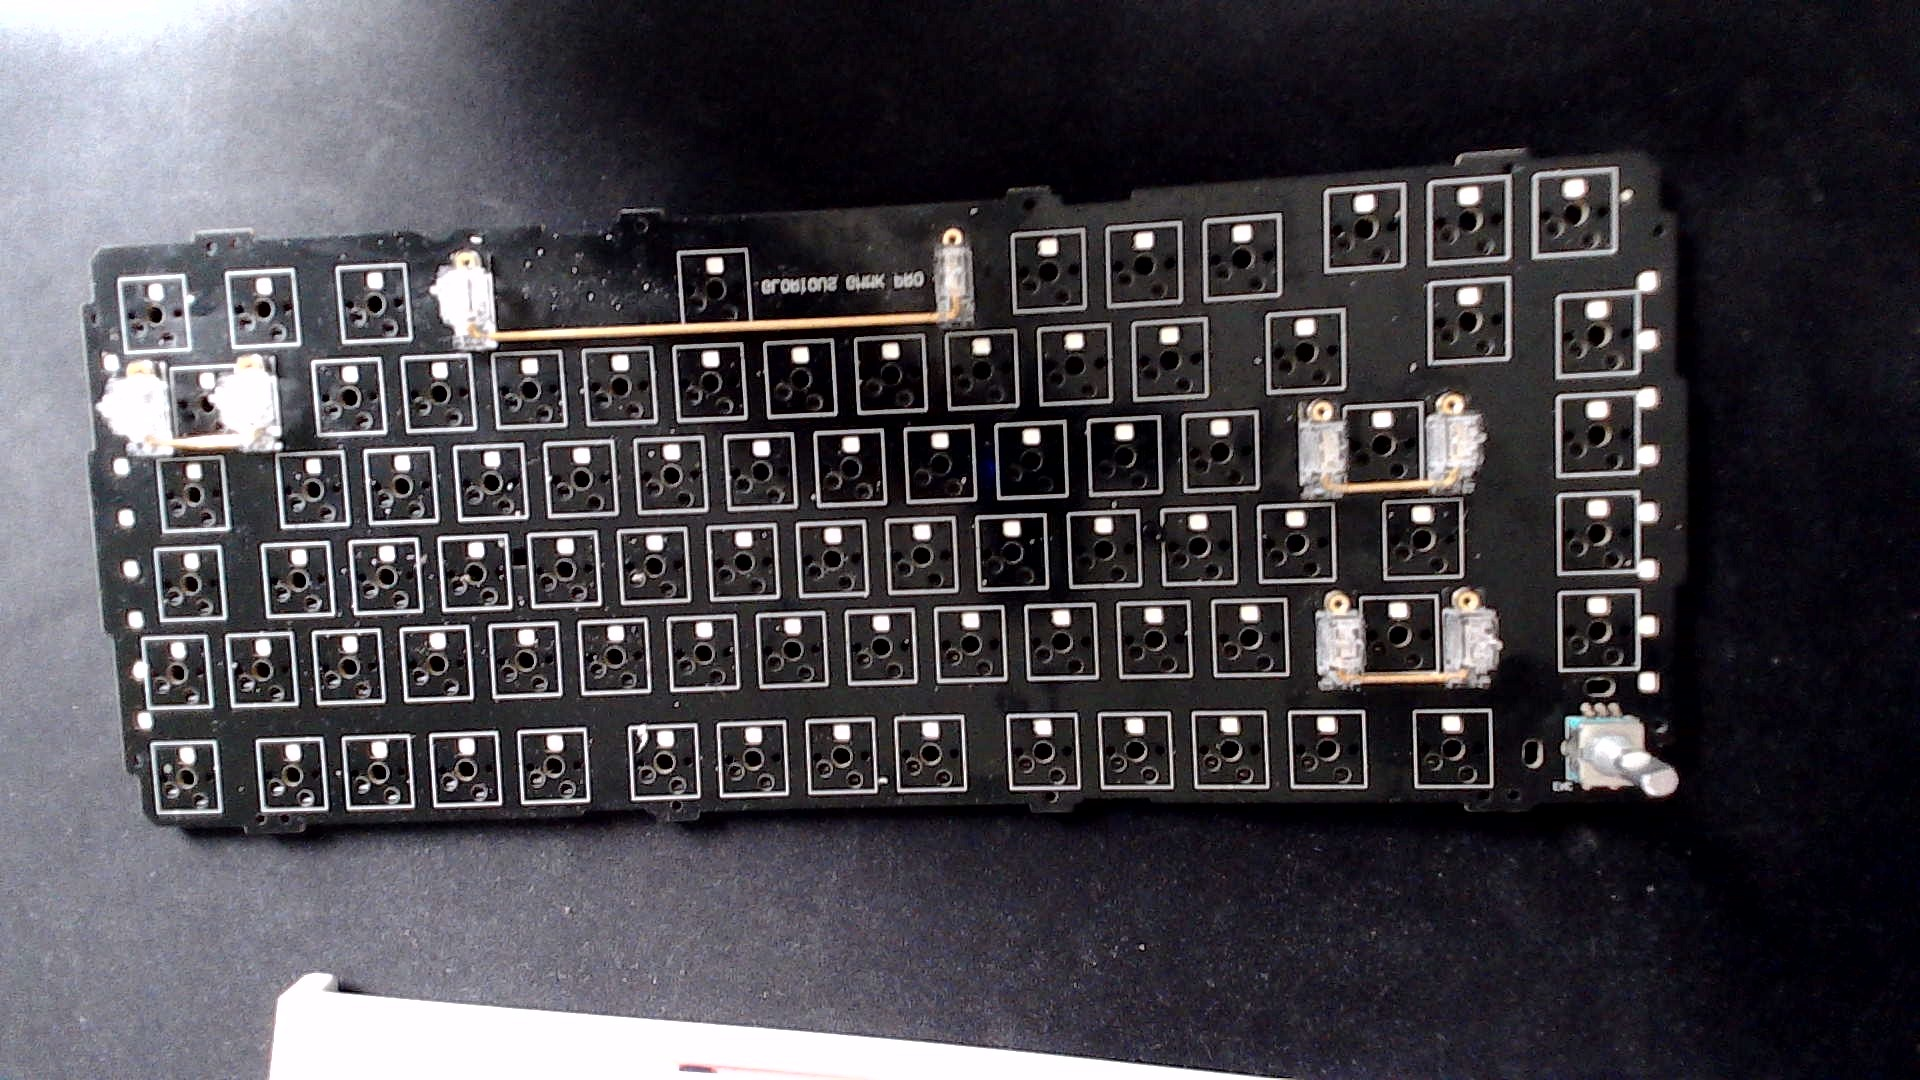pcb: (54, 109, 1735, 897)
